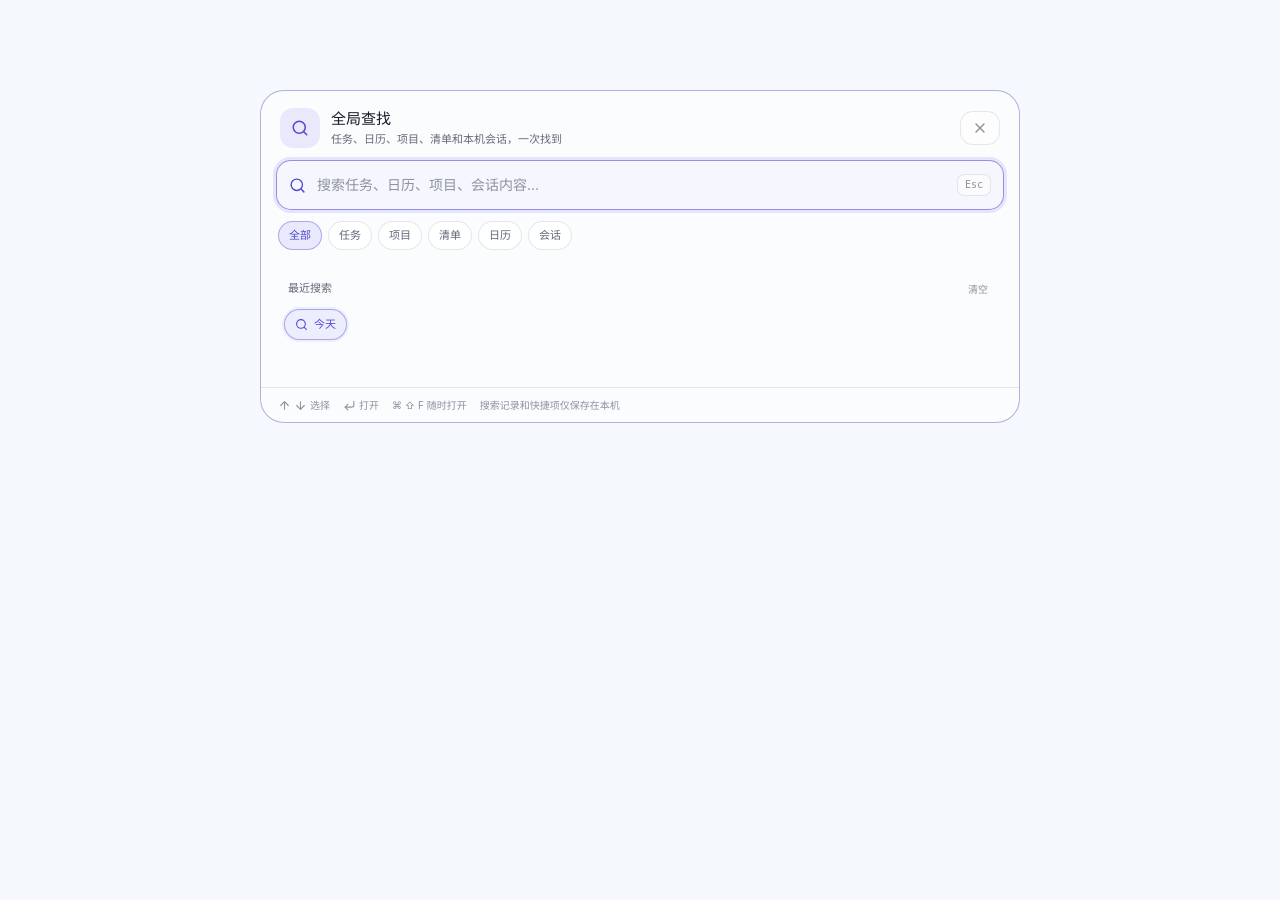
GlobalSearchSheet › clears recent queries without closing the sheet
Expected: the text "最近搜索" is shown, [288, 281, 332, 297]
Click the button "清空".
click(978, 289)  # box [964, 280, 992, 298]
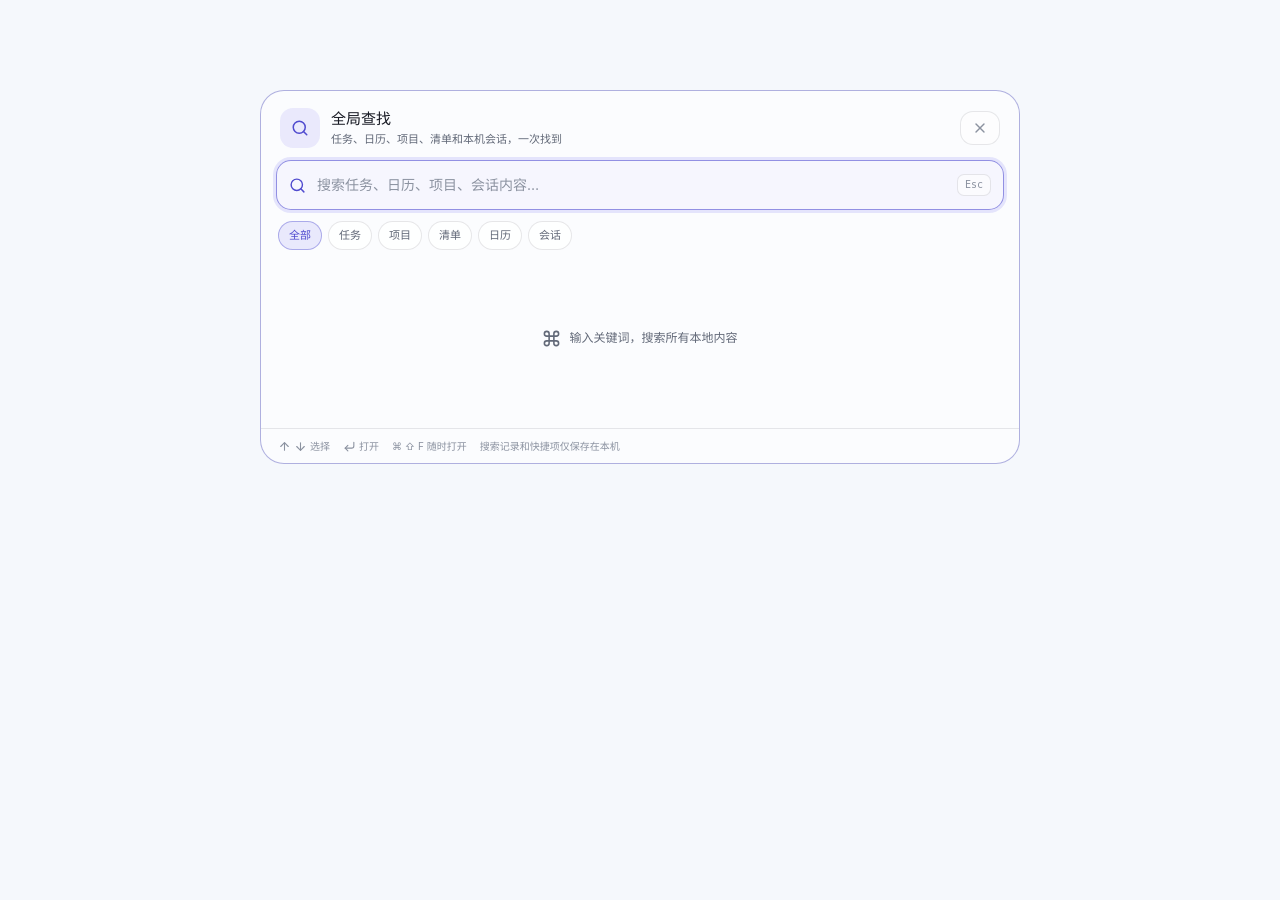
Expected: the text "最近搜索" is gone
